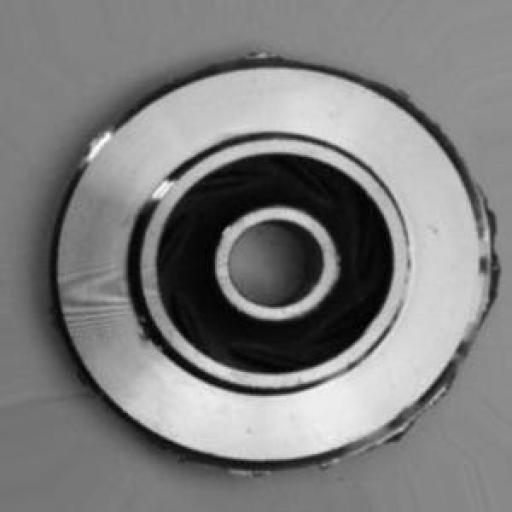defect: (225, 50, 505, 494)
